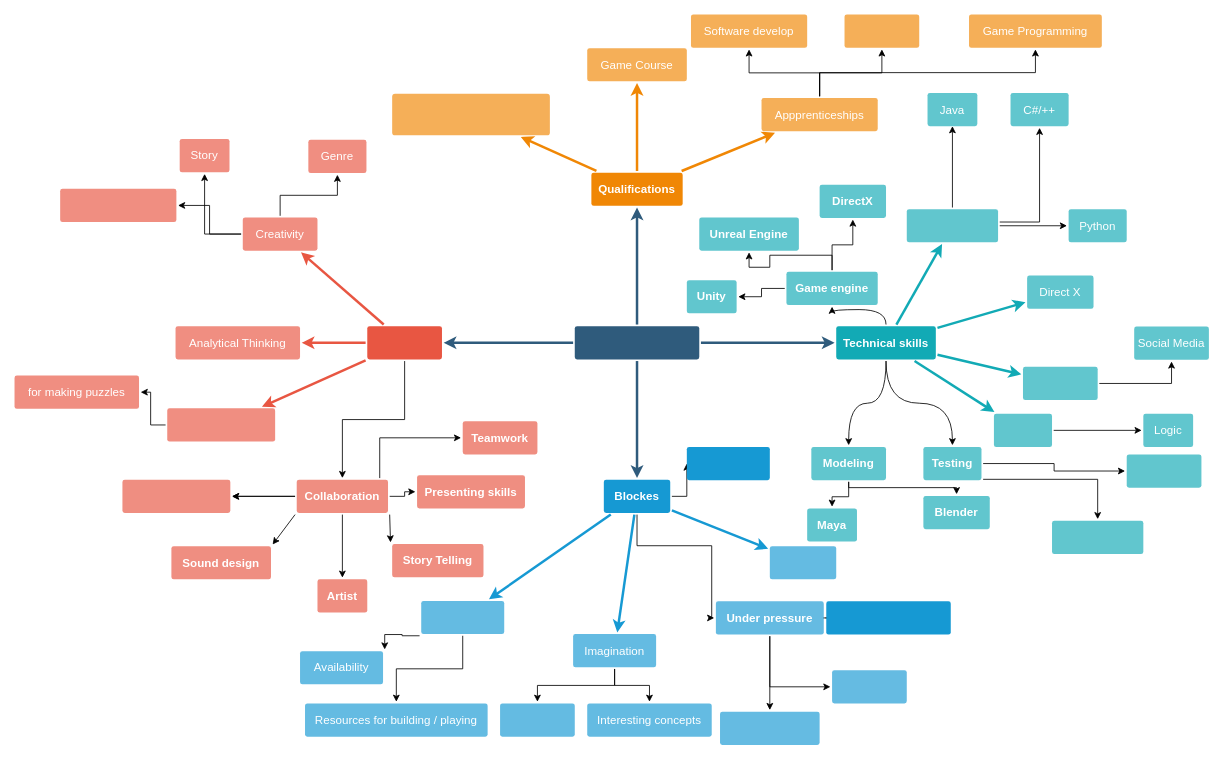
Some shapes in this 1223 by 759 pixel diagram are drawn without their labels. Each missing label, with the centre of its shape:
"Bug fixing" belongs at [1163,470].
"Character Design" belongs at [118,205].
"Computer Science Degree or related" belongs at [470,114].
"deadlines" belongs at [869,686].
"experience" belongs at [727,463].
"Game Developer" belongs at [636,342].
"Location" belongs at [802,562].
"Marketing" belongs at [1060,383].
"Maths" belongs at [1023,430].
"New ideas" belongs at [537,719].
"Optimisation" belongs at [1097,537].
"Other Engineers" belongs at [176,496].
"Other Projects" belongs at [769,728].
"Problem Solving" belongs at [221,424].
"Programming" belongs at [952,225].
"Soft skills" belongs at [404,342].
"Technology" belongs at [462,617].
"Time management" belongs at [888,617].
"VFX Artist" belongs at [881,30].
